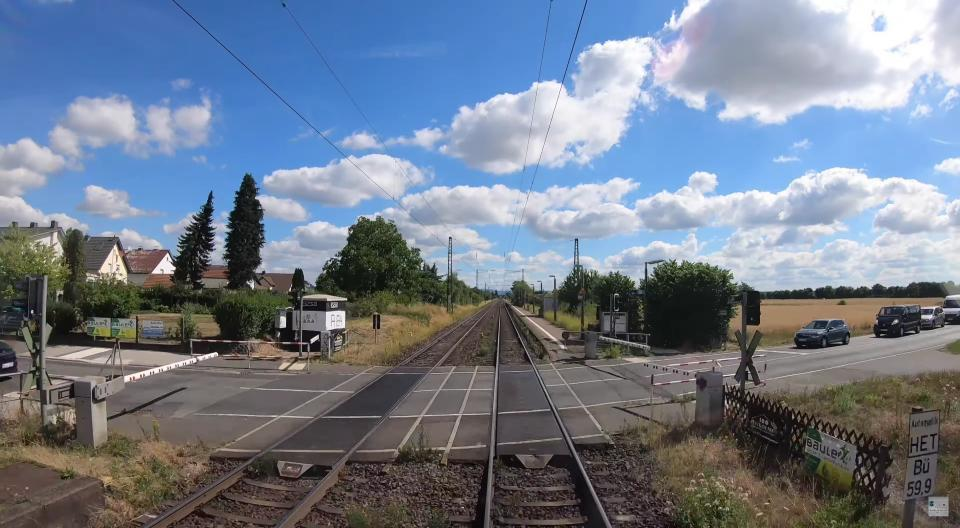Plant: (633, 427, 900, 528), (90, 440, 206, 528), (510, 308, 548, 359), (398, 425, 442, 463), (344, 503, 410, 528), (426, 512, 450, 528), (476, 336, 491, 356)
